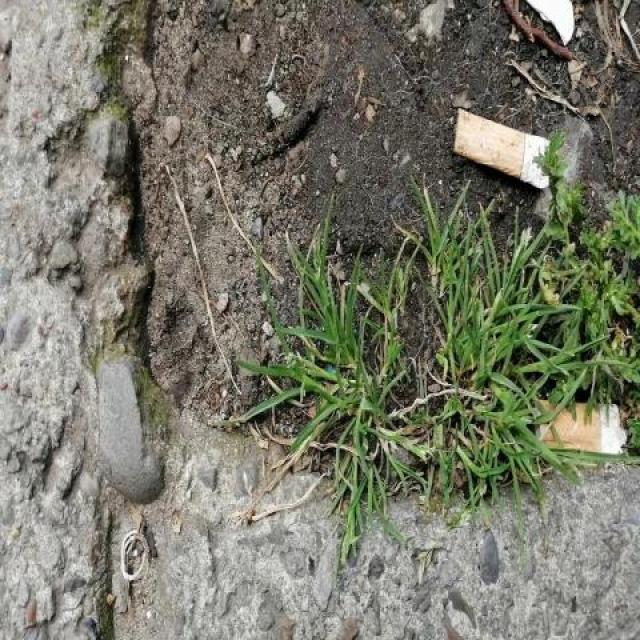non-organic waste: (448, 105, 552, 195), (530, 394, 630, 463)
